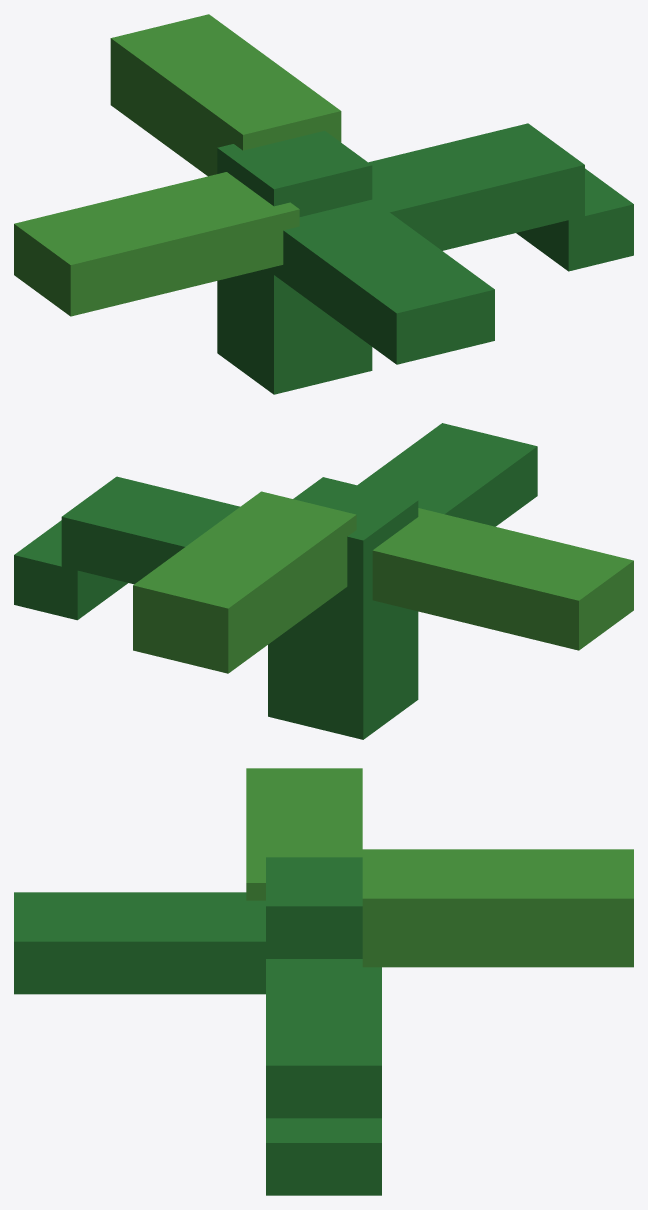
Rendered from Fern.glb.
3 renders of one model, top to bottom at view 1: azimuth 30°, elevation 25°; view 2: azimuth 150°, elevation 25°; view 3: azimuth 270°, elevation 25°, orthographic. The views are drawn at different scales.
Parts seen in each view (by area): view 1: Fern; view 2: Fern; view 3: Fern.
Part boxes in pixels (x1,y1,x2,y2): Fern: [14, 14, 633, 394]; Fern: [14, 423, 633, 739]; Fern: [14, 768, 633, 1195].
Bounding box in the file's own units: 3.5 × 1.29 × 3.2.
Materials: 1 (1 with a texture image).
